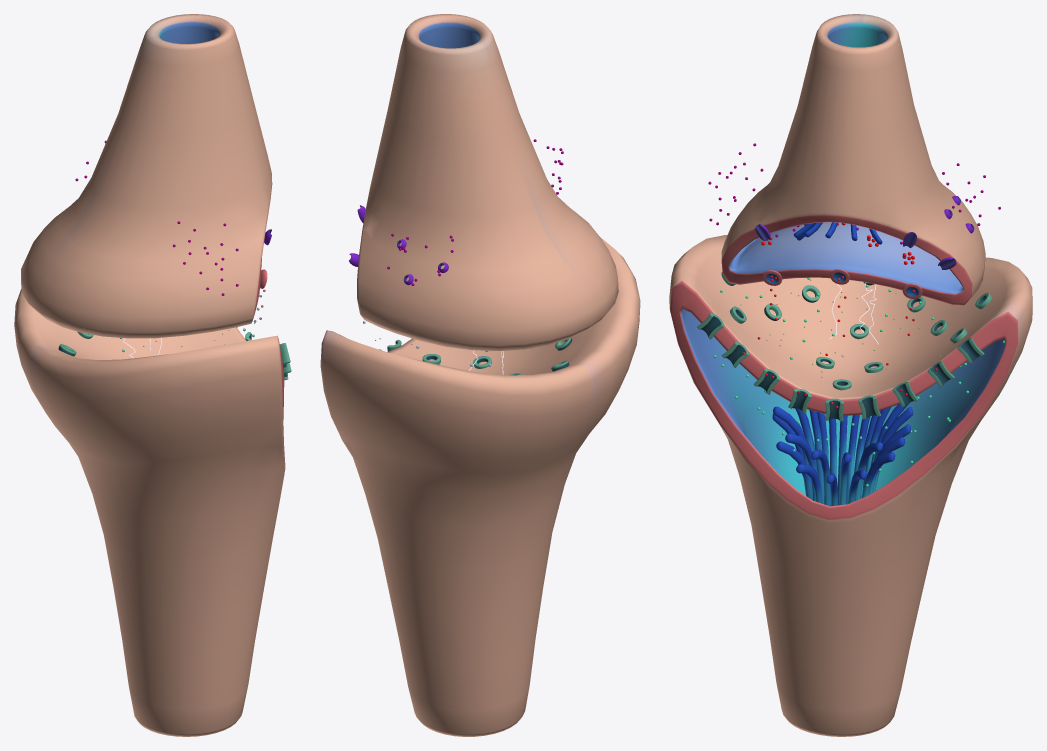
The picture shows the model from 3 angles, left to right: view 1: azimuth 30°, elevation 25°; view 2: azimuth 150°, elevation 25°; view 3: azimuth 270°, elevation 25°; orthographic projection.
Parts seen in each view (by area): view 1: Object001_all_0; view 2: Object001_all_0; view 3: Object001_all_0.
Boxes of the visible parts, x1,y1,x2,y2 form: Object001_all_0: (14, 14, 291, 736); Object001_all_0: (320, 14, 640, 736); Object001_all_0: (669, 14, 1032, 736).
Bounding box in the file's own units: 0.0783 × 0.2216 × 0.1056.
1 material, 1 textured.
